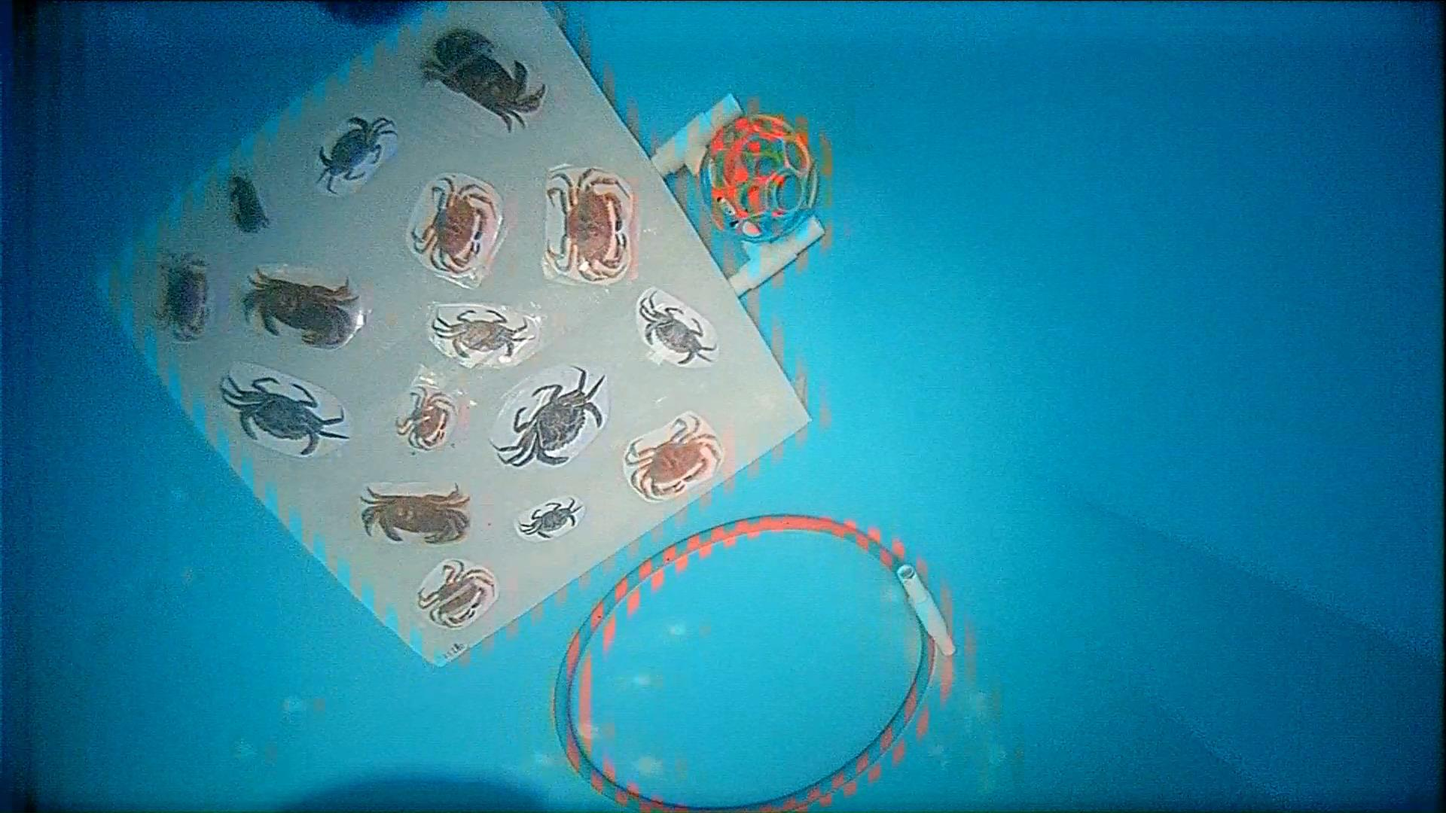GreenCrab: (493, 367, 606, 467), (220, 376, 348, 456), (639, 293, 716, 364), (318, 117, 389, 193), (433, 309, 527, 360), (520, 498, 580, 538)
